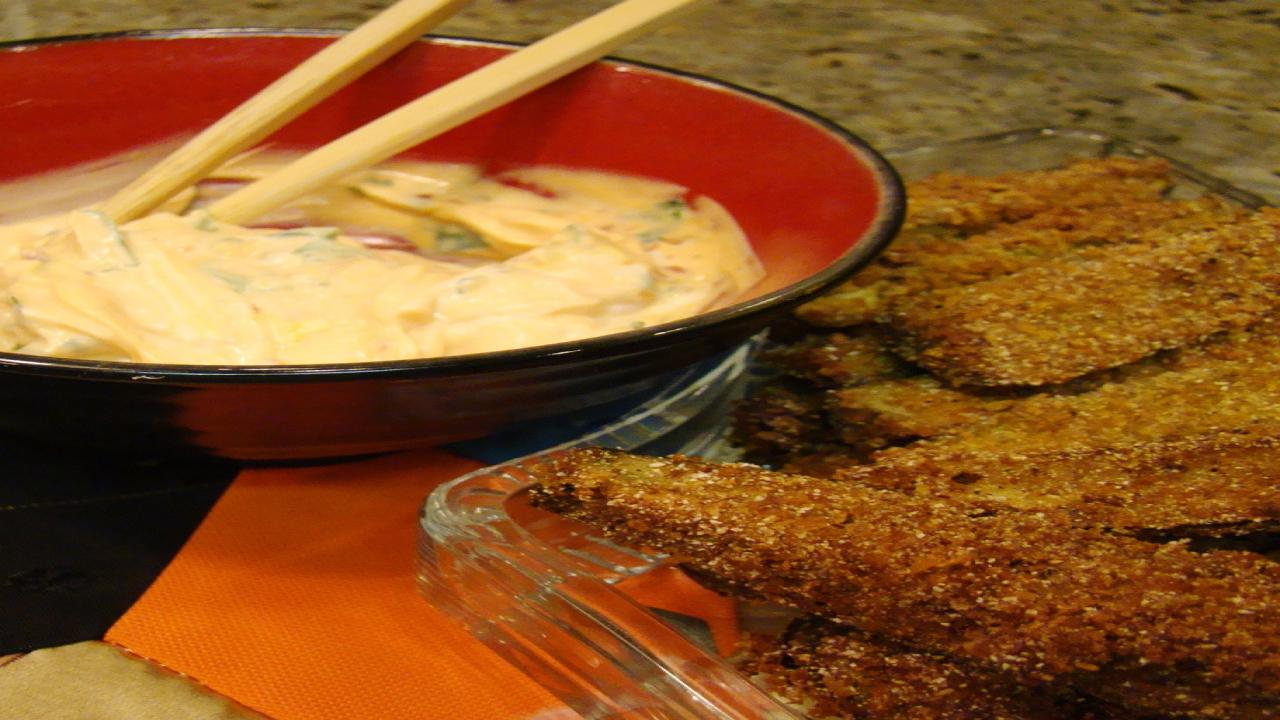chopstick: (94, 0, 700, 231)
